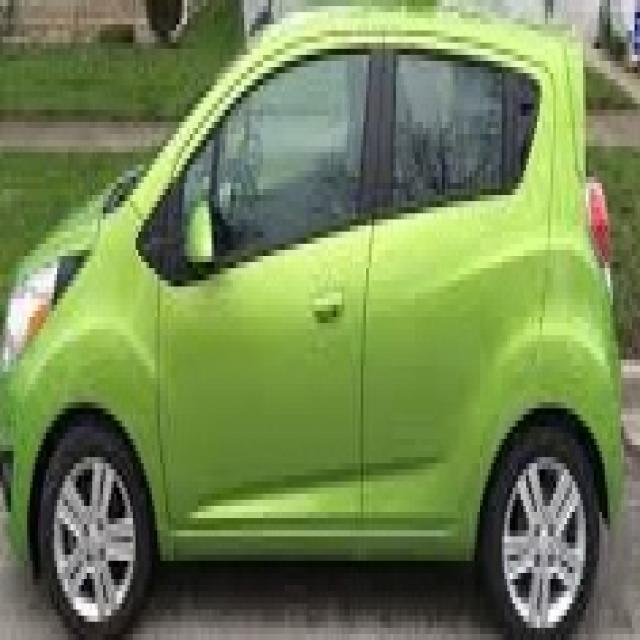green: (2, 11, 640, 640)
